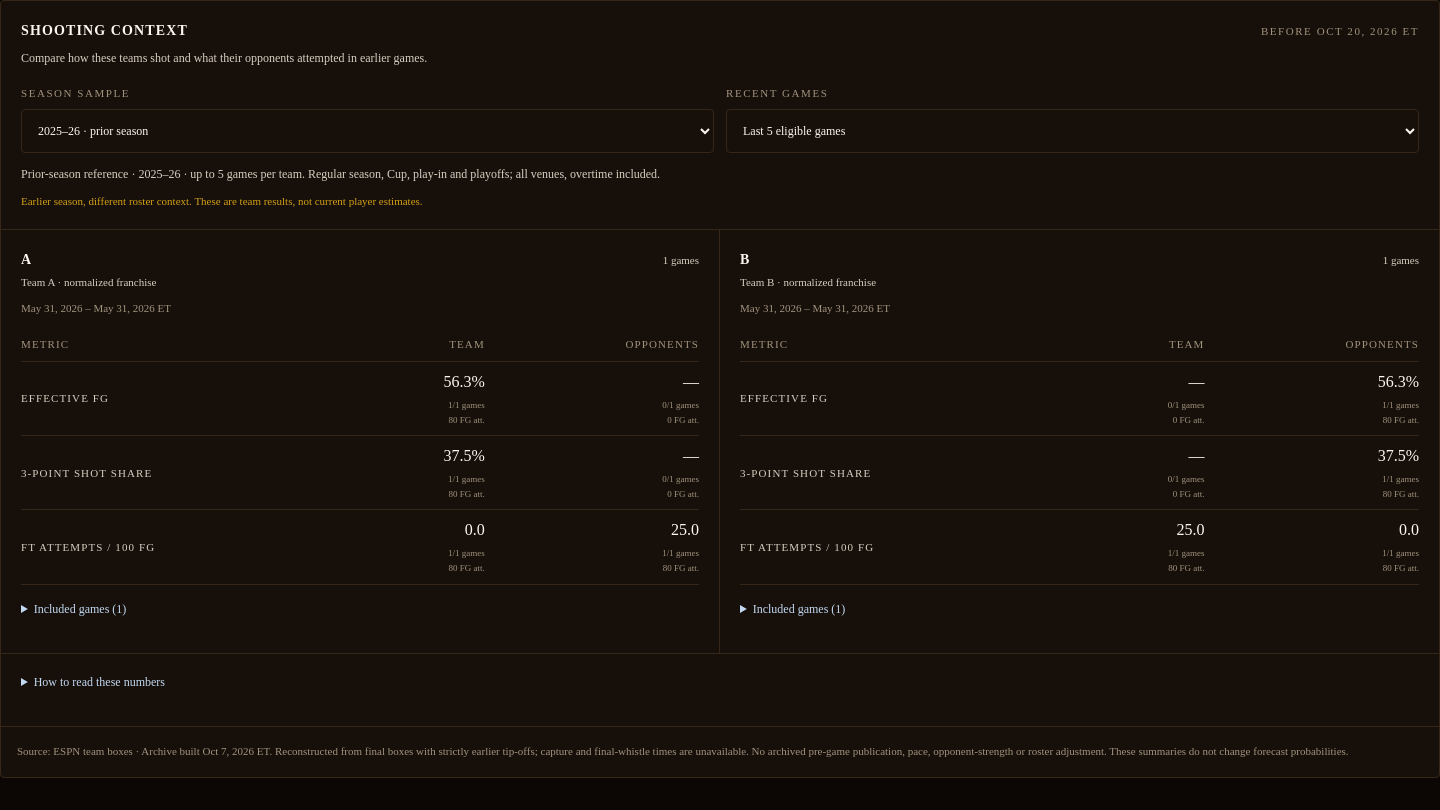
shared selection and popstate restore season/window; invalid query uses the game season
The width and height of the screenshot is (1440, 810).
Expected: the dropdown labelled "Season sample" shows "2025–26 · prior season", [21,109,714,153]
Select "Last 10 eligible games" in the dropdown labelled "Recent games" at [1072, 131], box [726,109,1419,153]
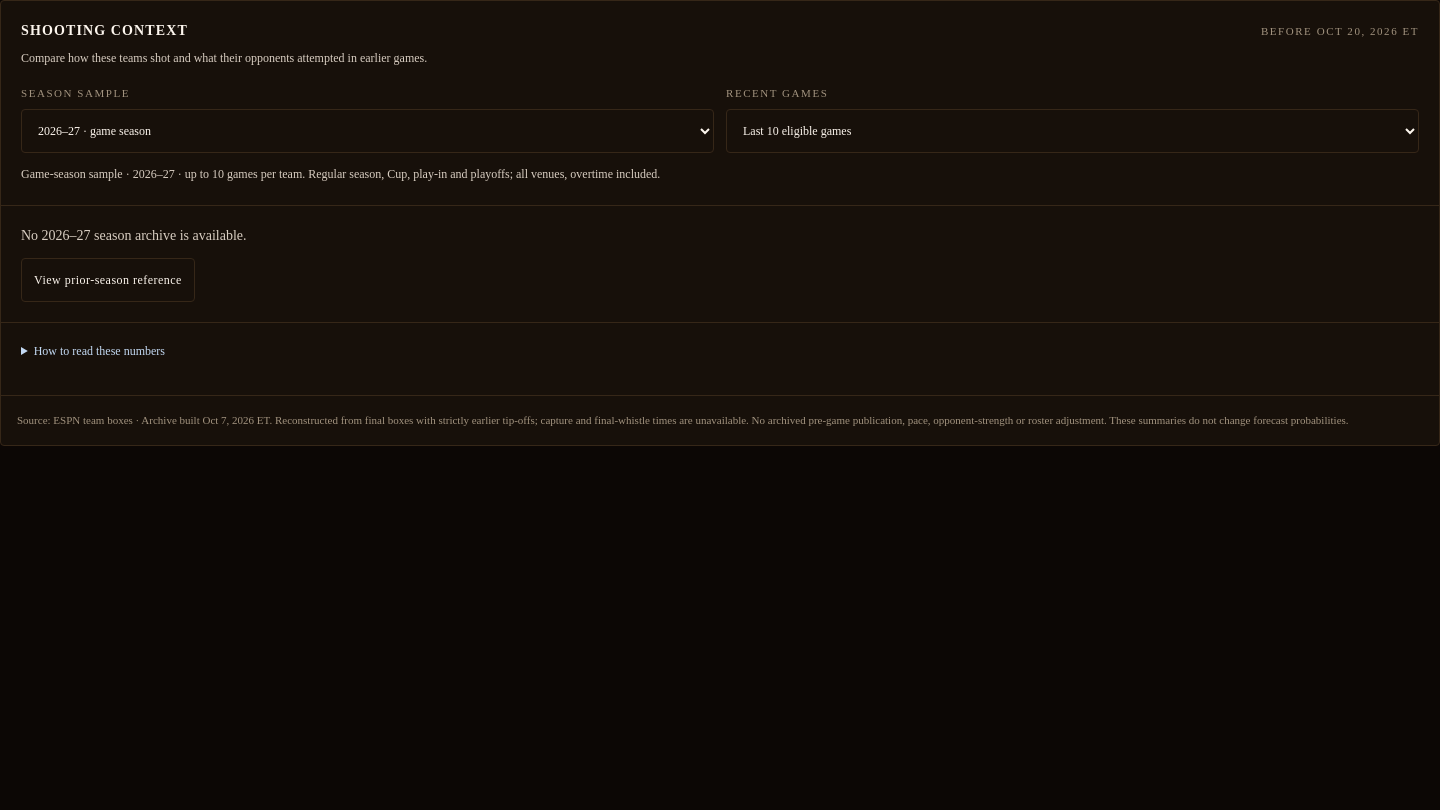
Result: the dropdown labelled "Season sample" shows "2026–27 · game season" at [21,109,714,153]
Result: the table is gone
